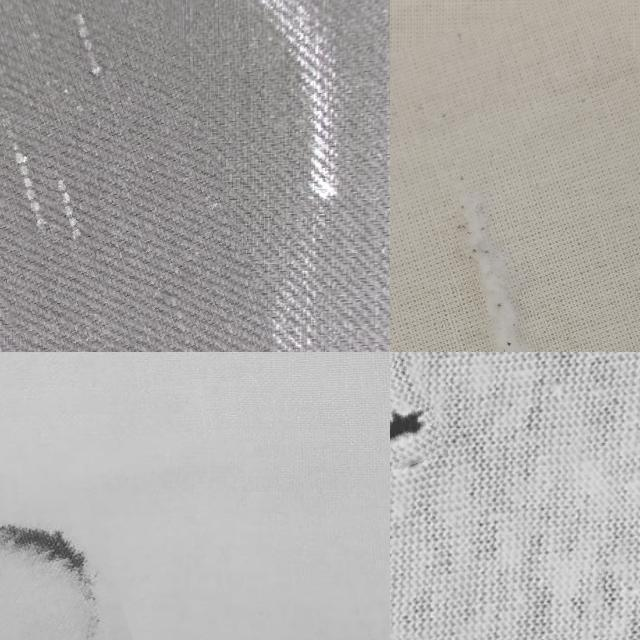Hole: (0, 505, 147, 640)
Thread_other: (390, 2, 640, 352)
